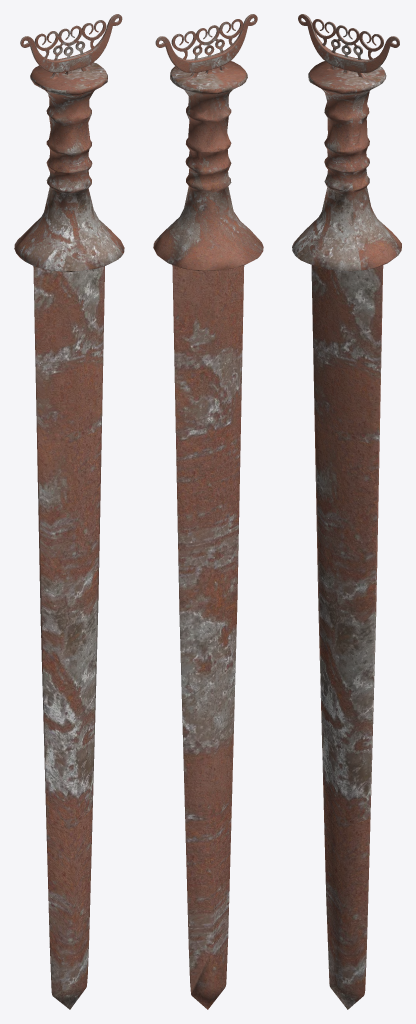
The model's file is kiem-dong-son.glb.
3 views of the same model, side by side, from view 1: azimuth 30°, elevation 25°; view 2: azimuth 210°, elevation 25°; view 3: azimuth 330°, elevation 25° (orthographic).
Visible parts, largest first — view 1: Object_4, Object_8; view 2: Object_4, Object_8; view 3: Object_4, Object_8.
Boxes of the visible parts, x1,y1,x2,y2 form: Object_4: (14,62,124,1009); Object_8: (20,14,122,79); Object_4: (153,61,263,1009); Object_8: (155,14,257,78); Object_4: (292,58,401,1009); Object_8: (298,14,399,78).
Bounding box in the file's own units: 0.0485 × 0.4497 × 0.0449.
Materials: 2 (2 with a texture image).
